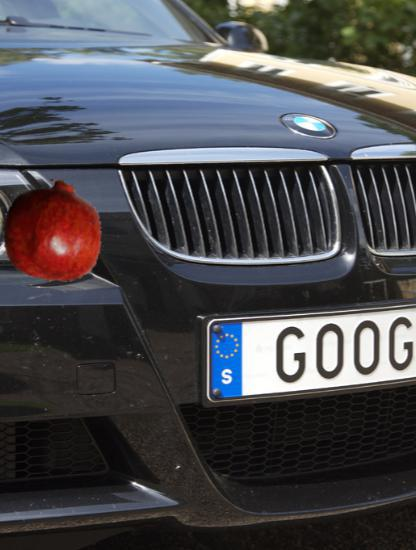Pomegranate: (2, 180, 104, 282)
